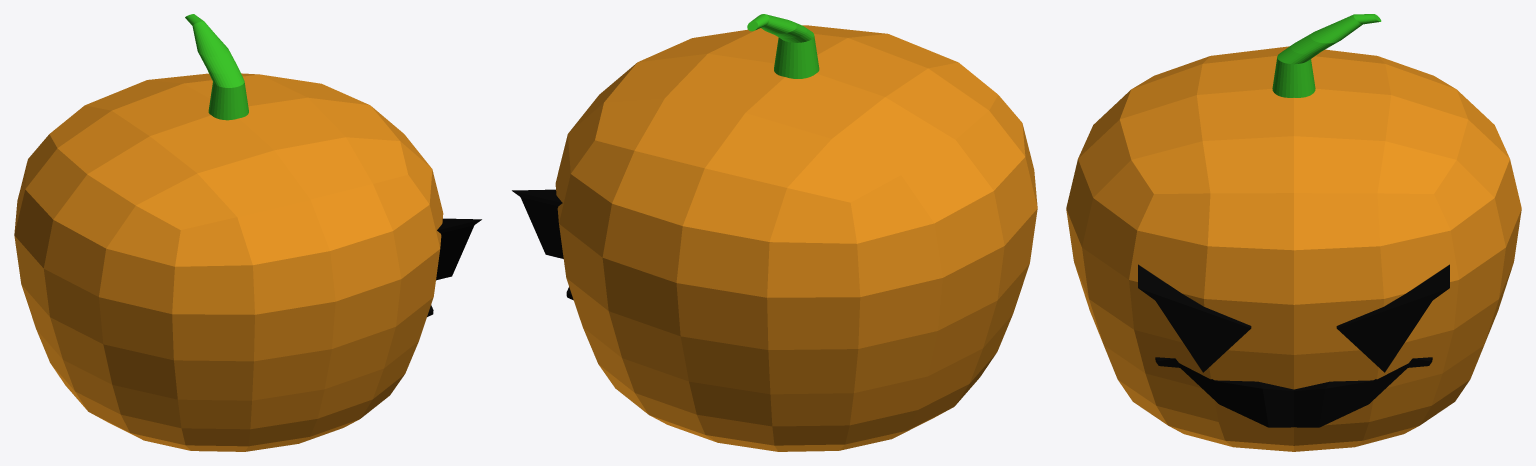
Rendered from pumpkin.fbx.
3 renders of one model, left to right at view 1: azimuth 30°, elevation 25°; view 2: azimuth 150°, elevation 25°; view 3: azimuth 270°, elevation 25°, orthographic. The views are drawn at different scales.
Parts seen in each view (by area): view 1: Cube, Cylinder, Cube.001; view 2: Cube, Cylinder, Cube.001; view 3: Cube, Cube.001, Cube.002, Cylinder.
Boxes of the visible parts, left/top/right/bottom form: Cube: left=14, top=73, right=443, bottom=451; Cylinder: left=185, top=14, right=248, bottom=120; Cube.001: left=436, top=218, right=481, bottom=280; Cube: left=555, top=25, right=1037, bottom=451; Cylinder: left=747, top=14, right=819, bottom=78; Cube.001: left=512, top=189, right=563, bottom=258; Cube: left=1066, top=46, right=1521, bottom=451; Cube.001: left=1138, top=264, right=1449, bottom=372; Cube.002: left=1155, top=357, right=1432, bottom=427; Cylinder: left=1272, top=14, right=1381, bottom=97.
Bounding box in the file's own units: 469 × 444 × 469.
